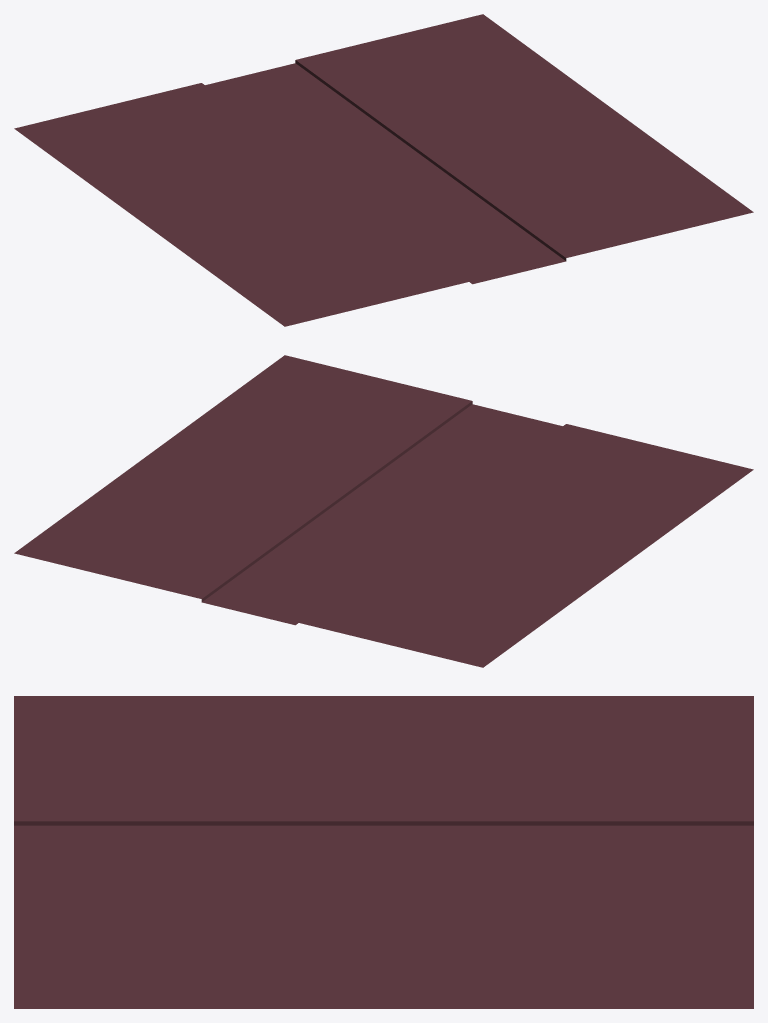
Rendered from tiles-nb-tile-road-straight-nb.glb.
The picture shows the model from 3 angles, top to bottom: view 1: azimuth 30°, elevation 25°; view 2: azimuth 150°, elevation 25°; view 3: azimuth 270°, elevation 25°; orthographic projection. The views are drawn at different scales.
Visible parts, largest first — view 1: tile-road-straight-nb; view 2: tile-road-straight-nb; view 3: tile-road-straight-nb.
Part boxes in pixels (x1,y1,x2,y2): tile-road-straight-nb: (14,14,753,326); tile-road-straight-nb: (14,355,753,667); tile-road-straight-nb: (14,696,753,1008).
Bounding box in the file's own units: 30 × 0.2 × 30.
